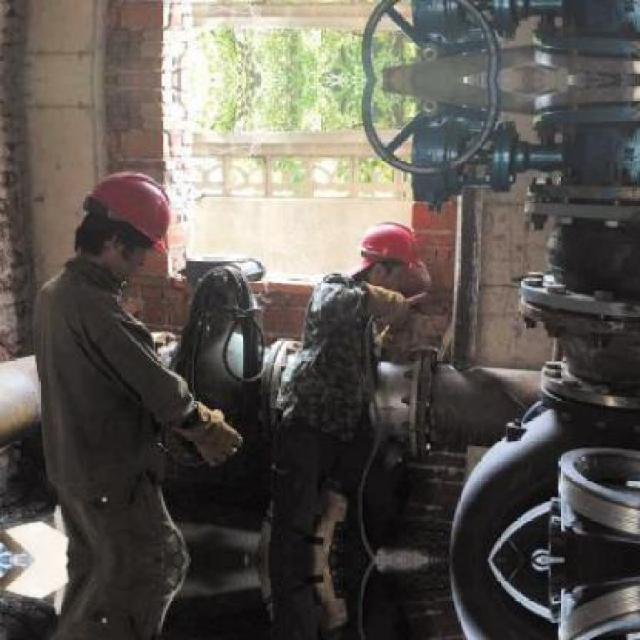helmet: (71, 162, 184, 284), (350, 219, 422, 286)
